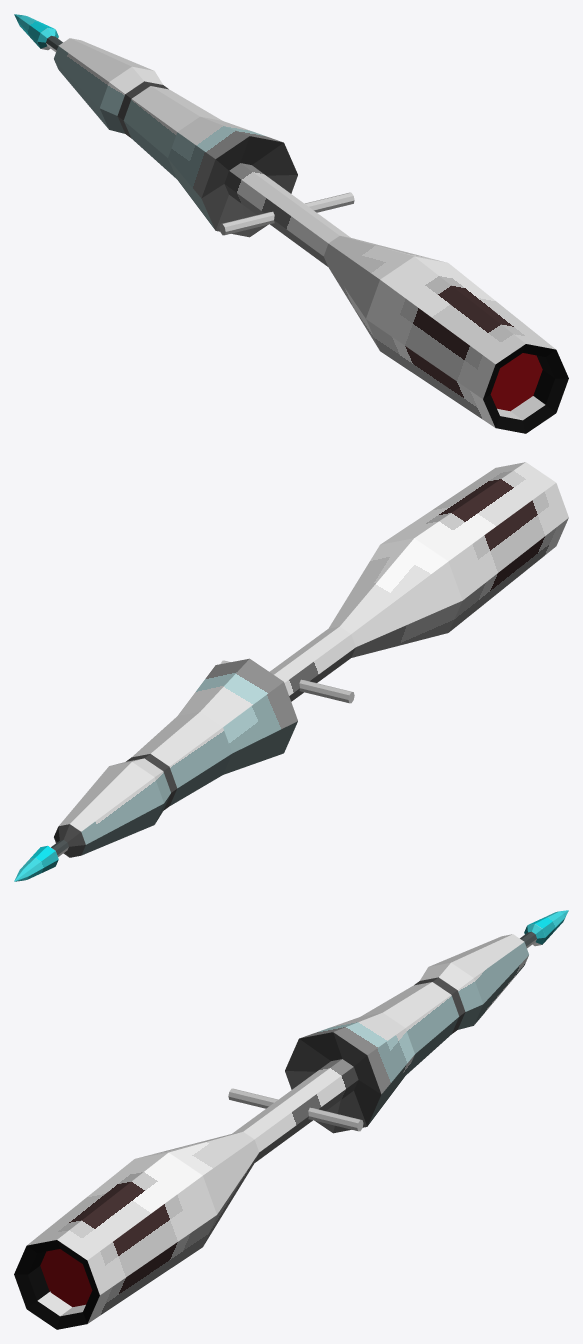
File: Super Cavitation Lance.obj
3 views of the same model, one above another, from view 1: azimuth 30°, elevation 25°; view 2: azimuth 150°, elevation 25°; view 3: azimuth 330°, elevation 25° (orthographic).
Parts seen in each view (by area): view 1: Lance Body, Handles; view 2: Lance Body, Handles; view 3: Lance Body, Handles.
Part boxes in pixels (x1,y1,x2,y2): Lance Body: (14, 14, 568, 433); Handles: (219, 192, 354, 235); Lance Body: (14, 462, 568, 881); Handles: (220, 660, 354, 703); Lance Body: (14, 910, 568, 1329); Handles: (228, 1088, 363, 1131).
Size of the model in its own units: 0.375 by 0.2813 by 2.58.
2 materials, 1 textured.
